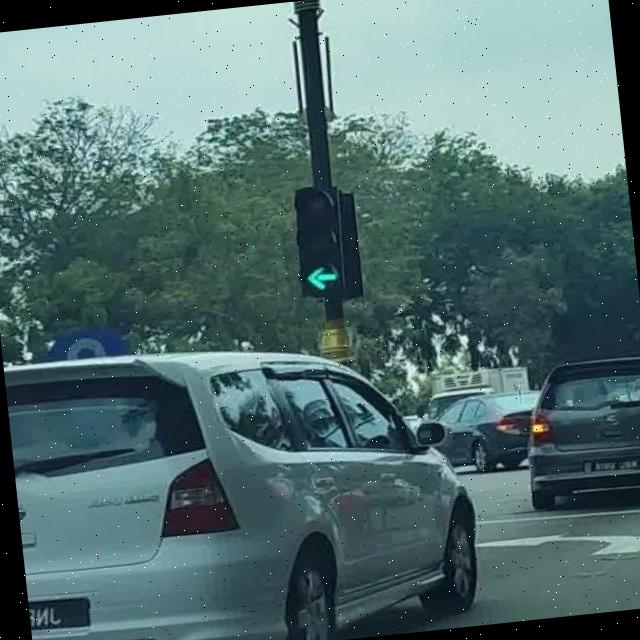green_light: (288, 182, 350, 298)
